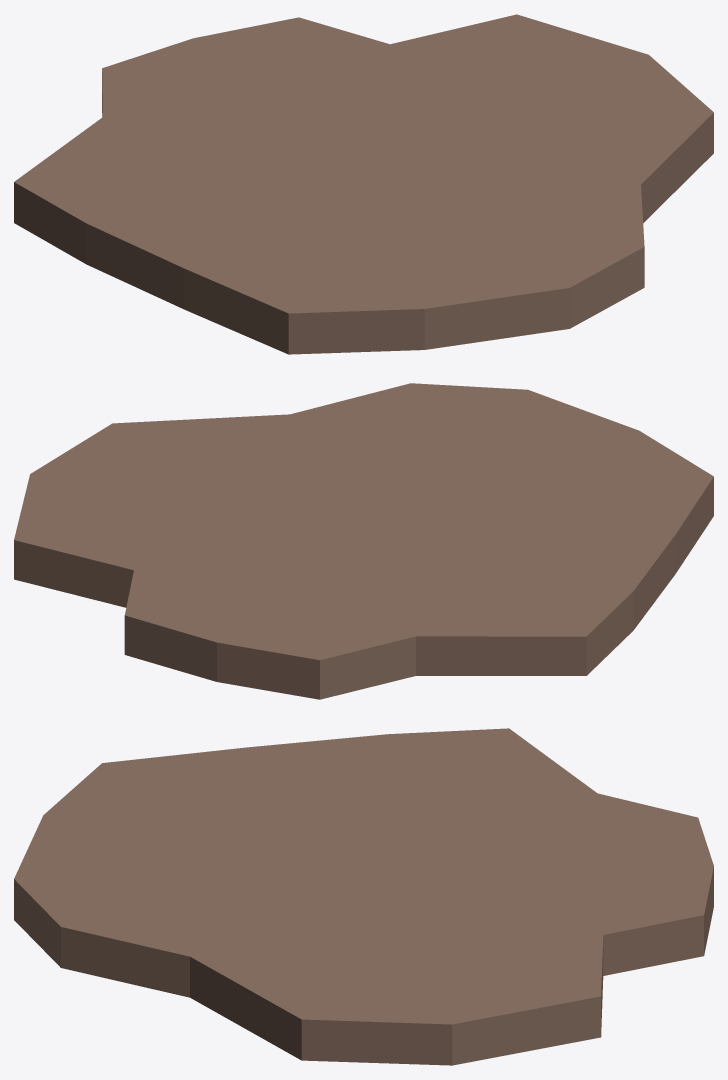
File: SM_island03.fbx
The picture shows the model from 3 angles, top to bottom: view 1: azimuth 30°, elevation 25°; view 2: azimuth 150°, elevation 25°; view 3: azimuth 270°, elevation 25°; orthographic projection. The views are drawn at different scales.
Parts seen in each view (by area): view 1: SM_island03; view 2: SM_island03; view 3: SM_island03.
Boxes of the visible parts, <box> form: SM_island03: <box>14,14,713,354</box>; SM_island03: <box>14,383,713,699</box>; SM_island03: <box>14,728,713,1065</box>.
Bounding box in the file's own units: 1857 × 120 × 1855.
